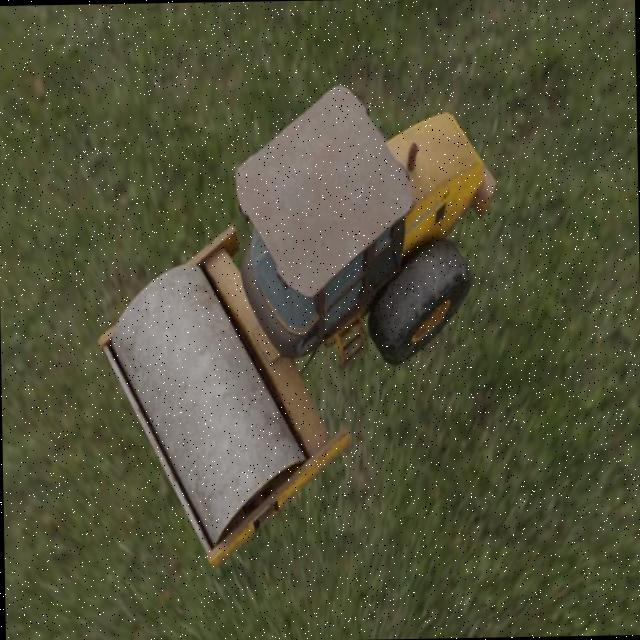Roller: (91, 81, 502, 571)
